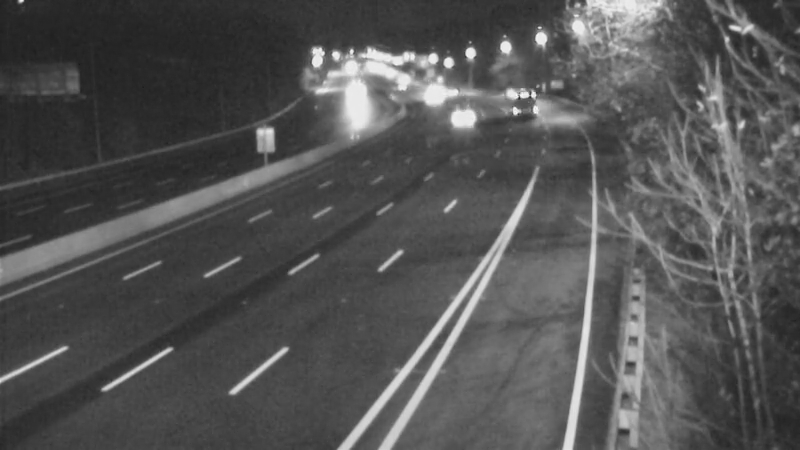vehicle: (379, 55, 429, 105), (422, 66, 472, 116), (406, 76, 456, 126), (489, 73, 539, 123), (437, 91, 487, 141), (331, 74, 381, 124)
